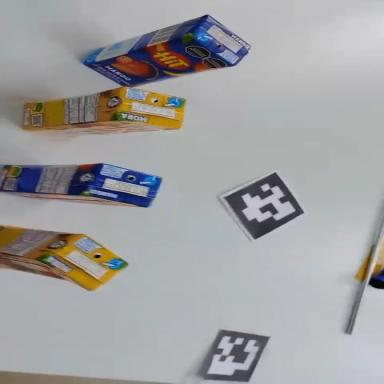HIT-MANGO: (80, 7, 253, 97), (0, 161, 162, 207)
HIT-MORA: (19, 83, 187, 140), (0, 225, 130, 294)
cara_F: (83, 27, 234, 97), (27, 115, 179, 140), (0, 252, 90, 289), (0, 191, 142, 207)
